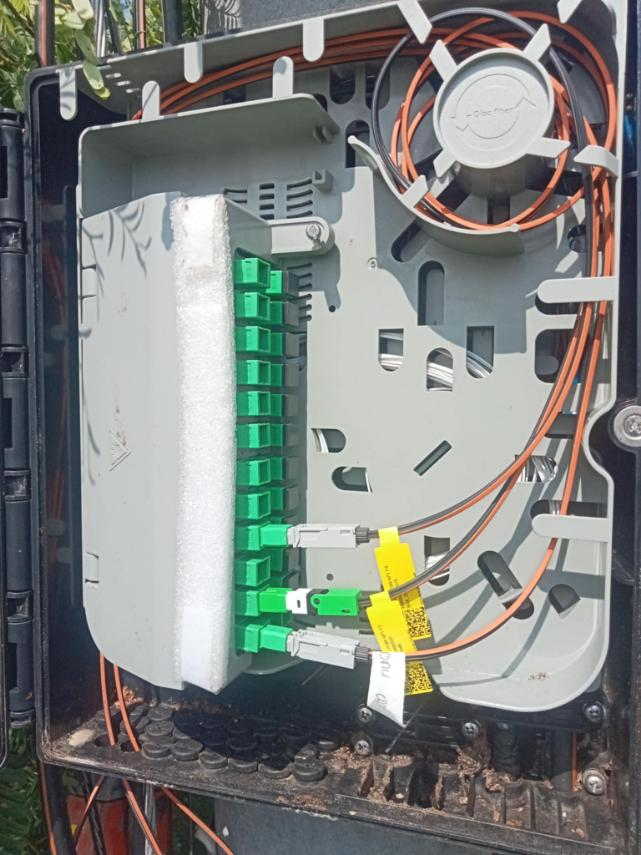no dust cap: (256, 491, 271, 518), (257, 555, 270, 585), (257, 259, 270, 287), (280, 602, 295, 626), (257, 293, 270, 319), (257, 328, 271, 352), (257, 361, 271, 384), (258, 459, 270, 485), (257, 392, 270, 415), (258, 424, 270, 447)
occupied: (260, 623, 386, 680), (259, 586, 372, 620), (260, 525, 375, 553)
vacant: (286, 571, 301, 600), (283, 514, 299, 541), (283, 544, 298, 572), (285, 301, 300, 328), (285, 271, 300, 298), (286, 484, 299, 512), (283, 395, 299, 417), (285, 457, 299, 480), (285, 334, 299, 357), (285, 364, 299, 387), (285, 424, 299, 445)
